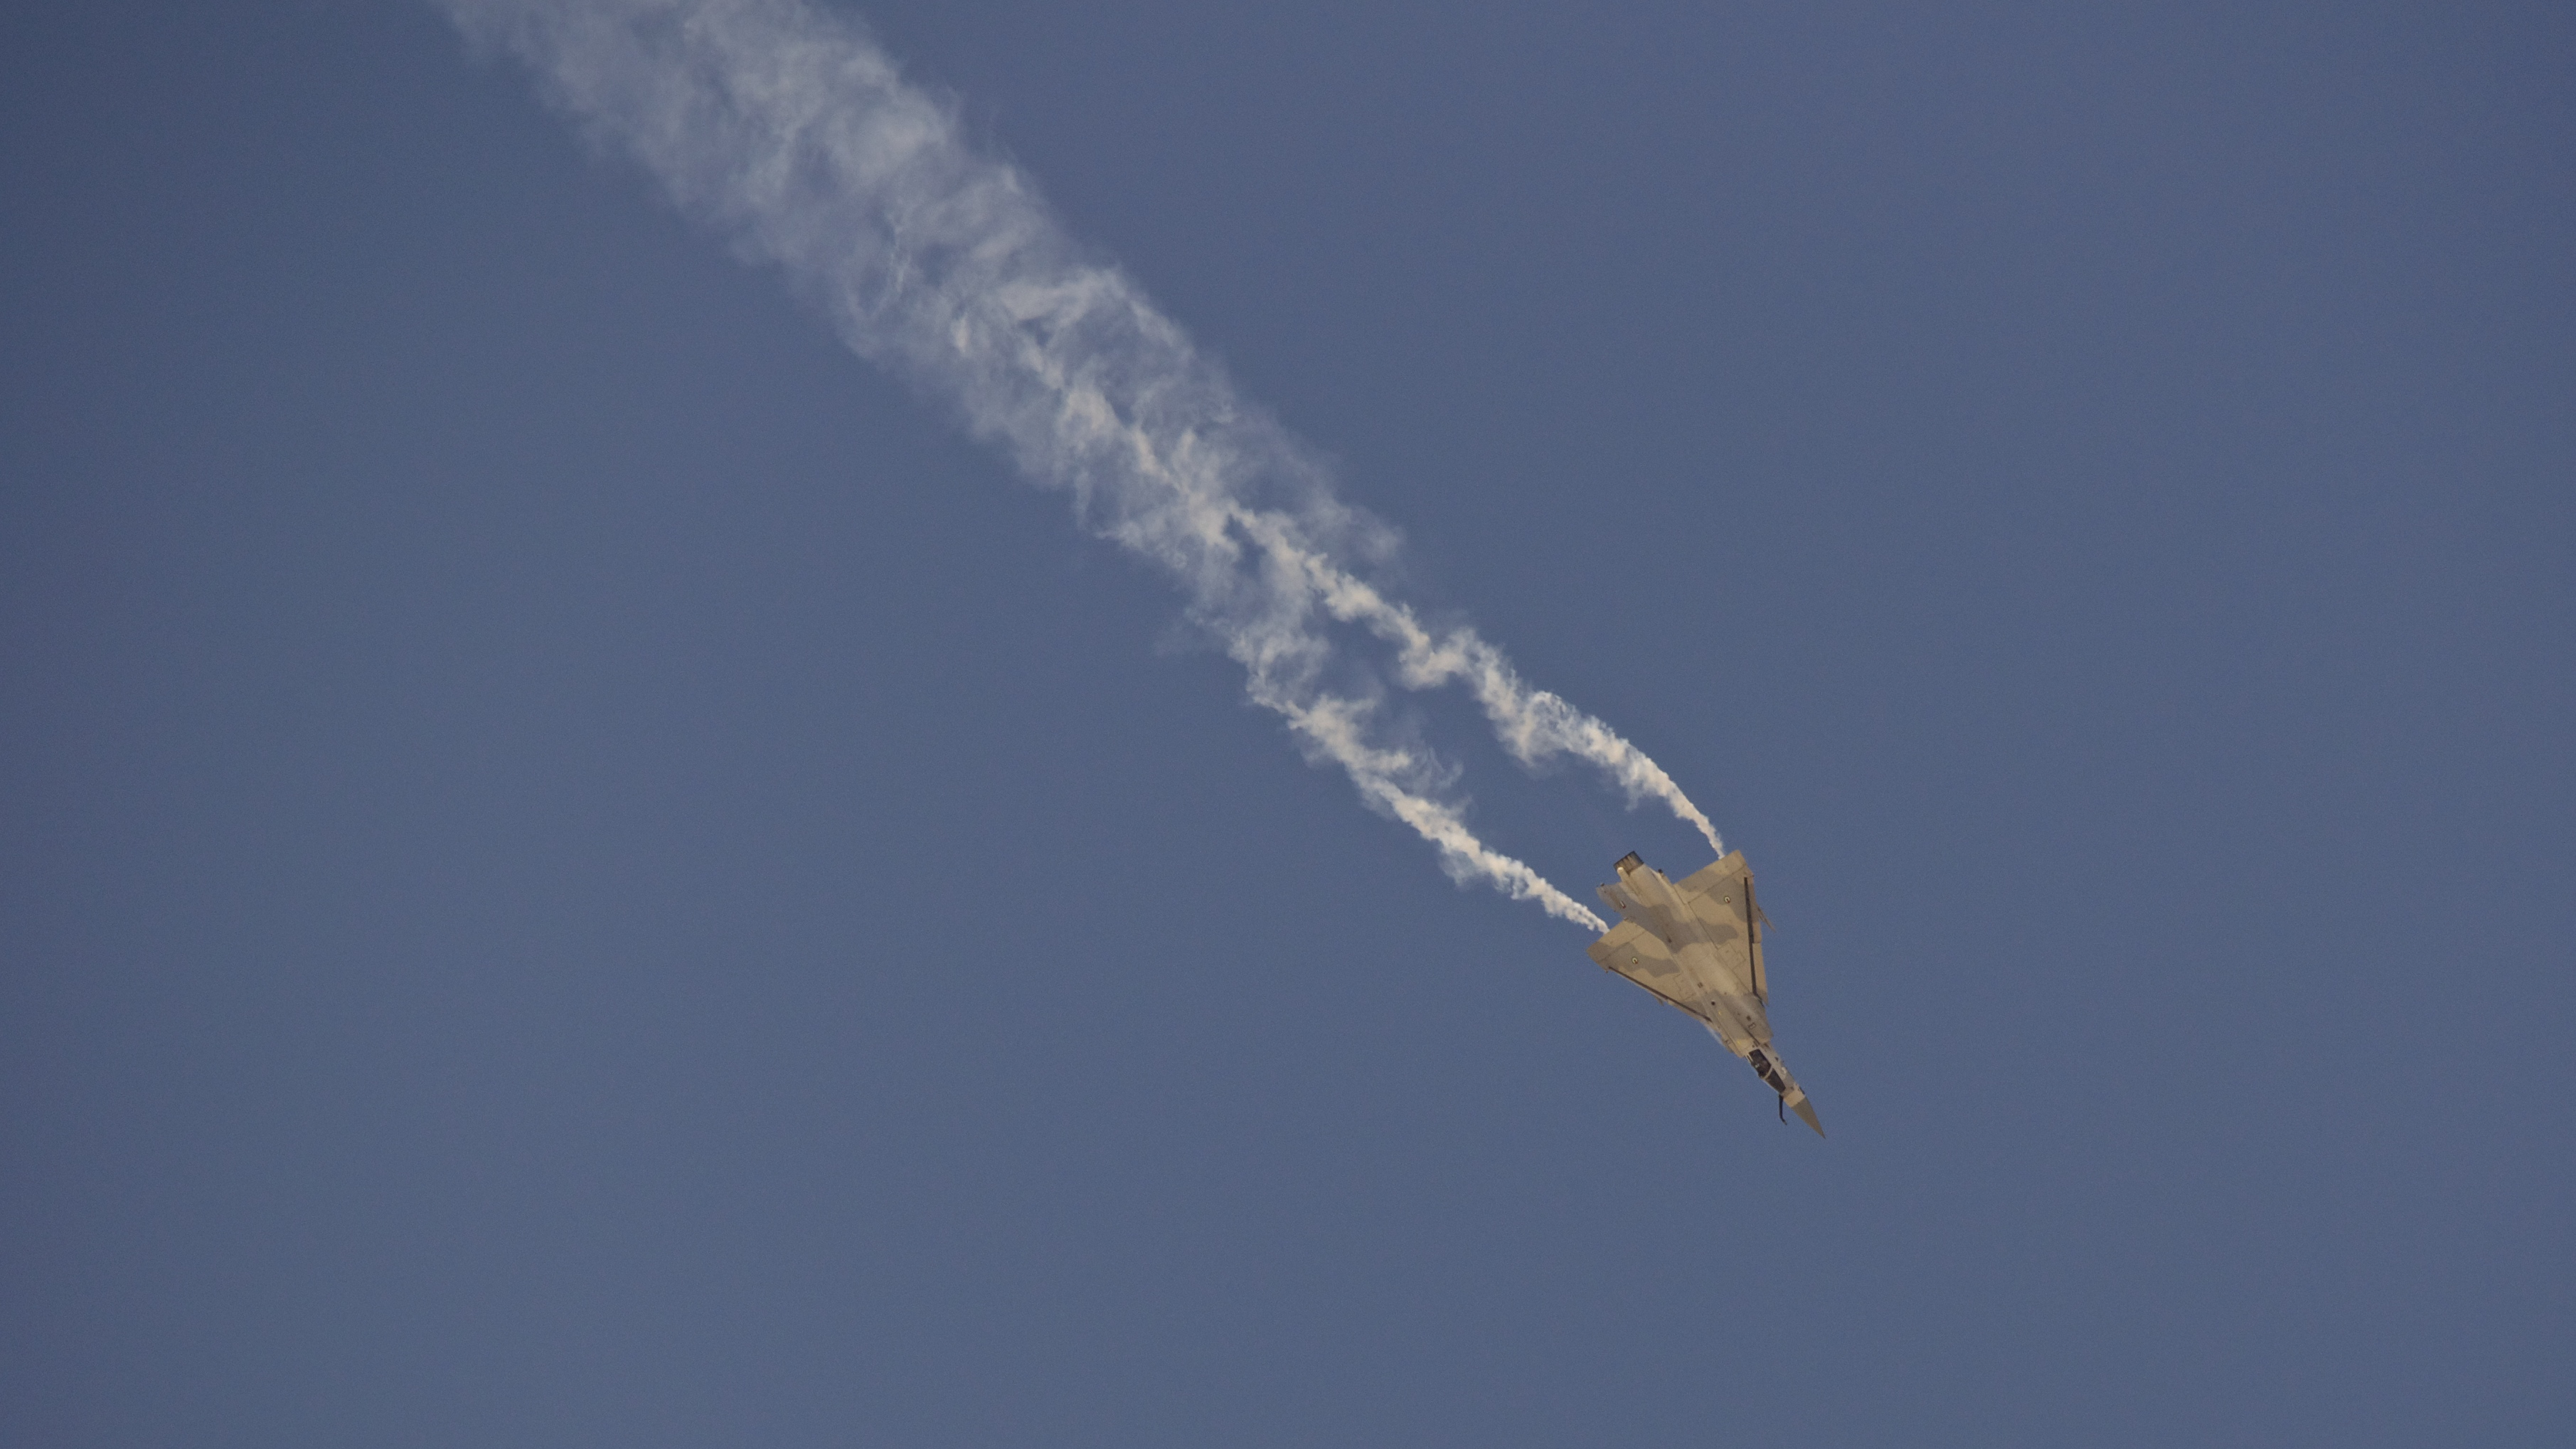Mirage2000: (1583, 847, 1826, 1141)
